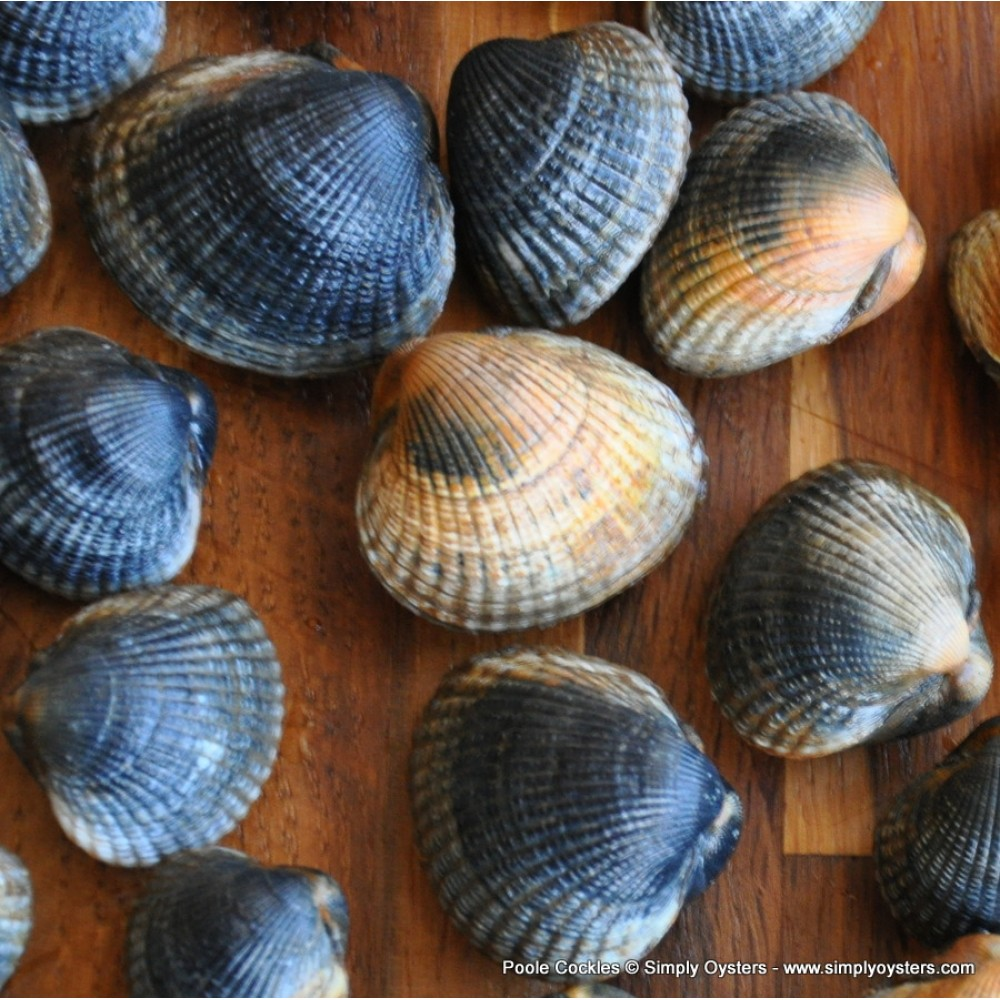cockle: (74, 47, 461, 366), (344, 324, 709, 634), (398, 643, 736, 956), (698, 449, 992, 759), (632, 88, 922, 384), (8, 584, 291, 872), (447, 28, 688, 334), (4, 324, 217, 589), (117, 846, 357, 1000), (878, 711, 1000, 932), (633, 1, 900, 94), (1, 3, 171, 124), (941, 197, 1000, 361), (1, 129, 48, 311), (1, 846, 34, 990)
